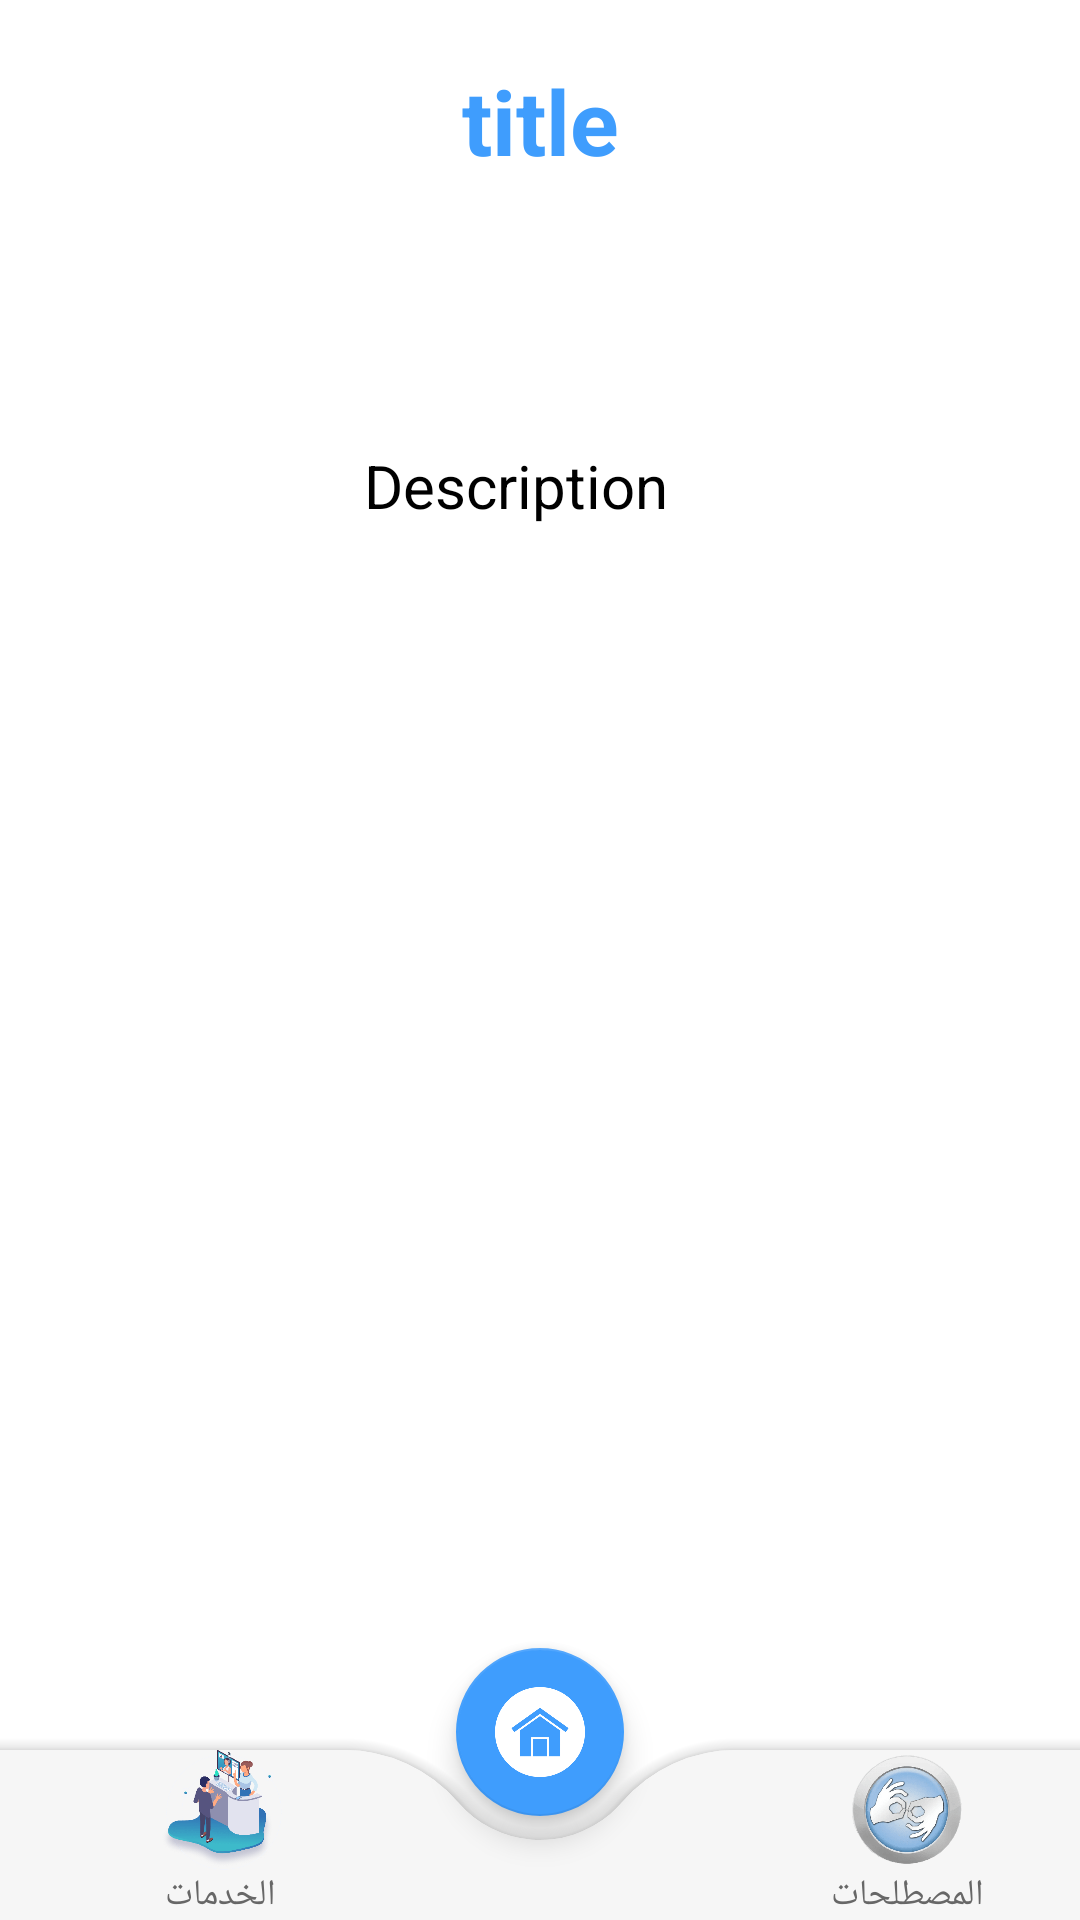

Where to tap for icons on this 1080px x 1920px app screen, as [x,y]:
home: [540,1750]
